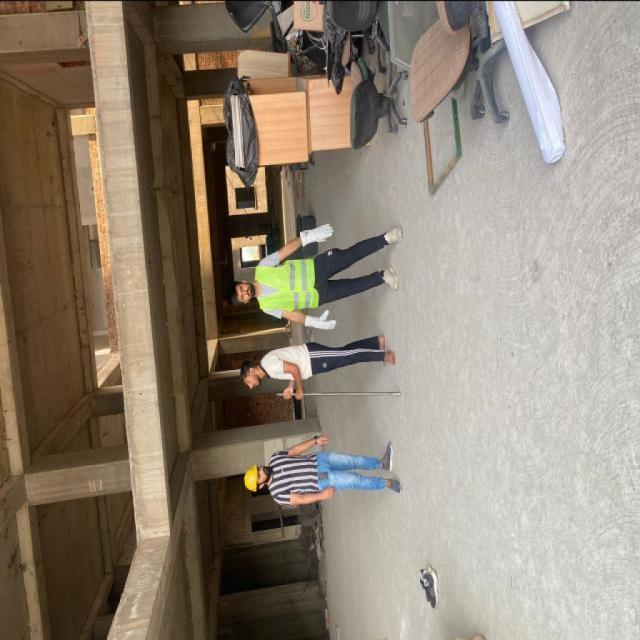Gloves-Detection: (295, 224, 343, 248), (299, 310, 339, 333)
